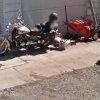Motorcycle: (2, 13, 72, 63)
